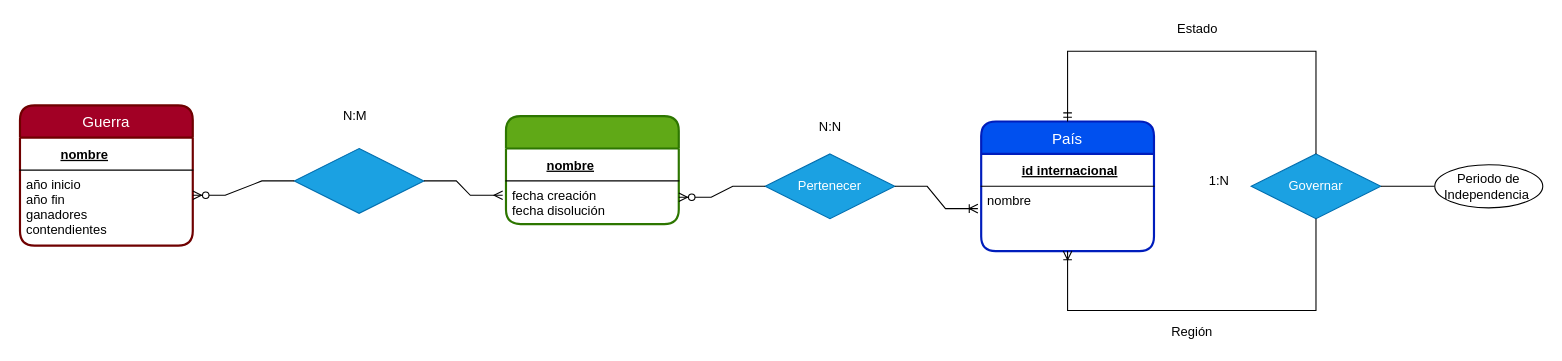
Some shapes in this 1562 by 361 pixel diagram are drawn without their labels. Each missing label, with the box of its shape:
Bando: (504, 114, 679, 225)
Unir: (293, 147, 424, 213)
